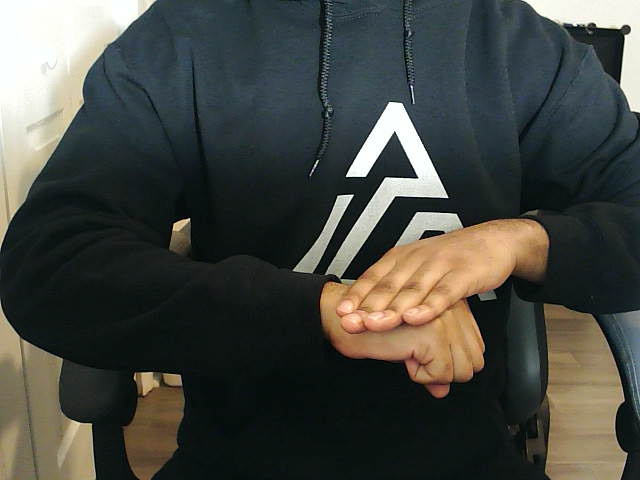Dog: (323, 217, 548, 400)
